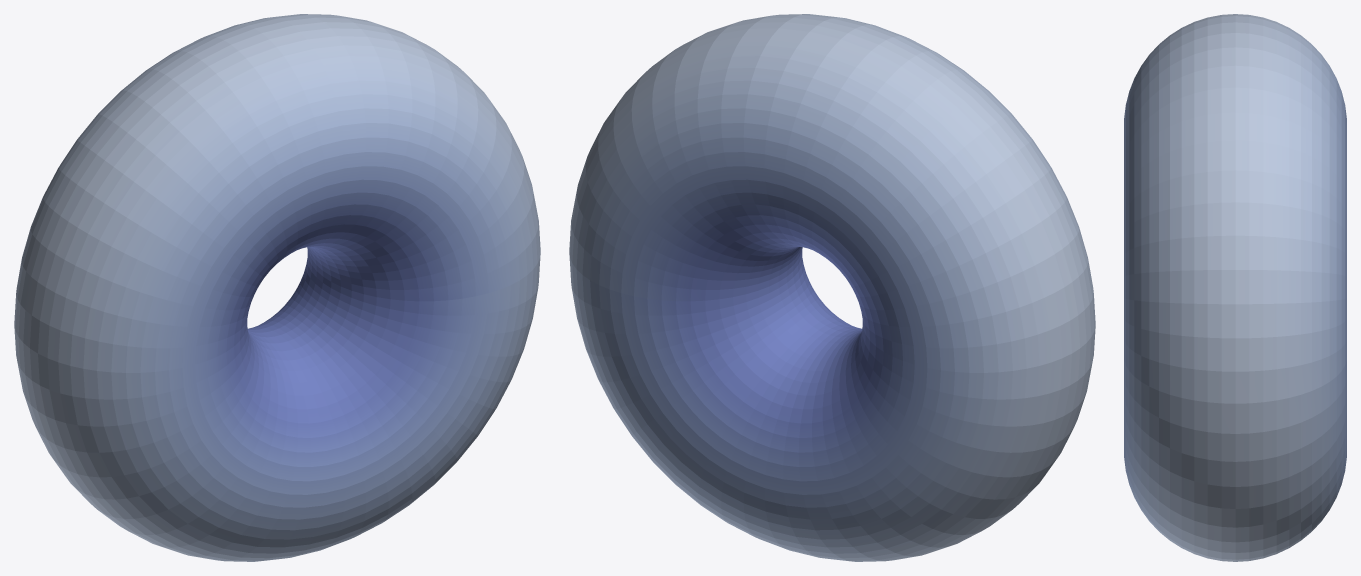
3 renders of one model, left to right at view 1: azimuth 30°, elevation 25°; view 2: azimuth 150°, elevation 25°; view 3: azimuth 270°, elevation 25°, orthographic. The views are drawn at different scales.
Parts seen in each view (by area): view 1: world; view 2: world; view 3: world.
Part boxes in pixels (x1,y1,x2,y2): world: [14, 14, 540, 561]; world: [569, 14, 1095, 561]; world: [1124, 14, 1346, 561].
Bounding box in the file's own units: 18 × 17.96 × 7.32.
